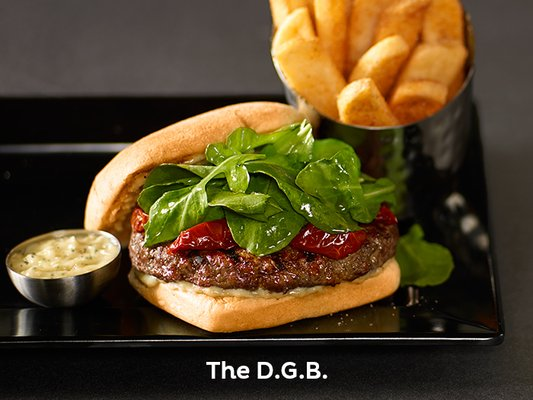soup: (97, 101, 407, 333)
sushi: (5, 228, 122, 309)
